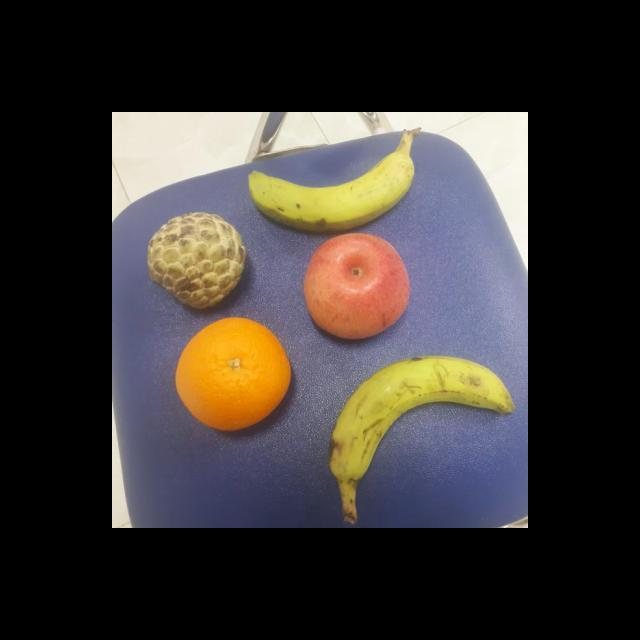Sakya fruit: (148, 210, 245, 308)
apple: (304, 232, 411, 338)
banana: (329, 354, 516, 524), (245, 126, 422, 232)
orange: (176, 318, 292, 432)
